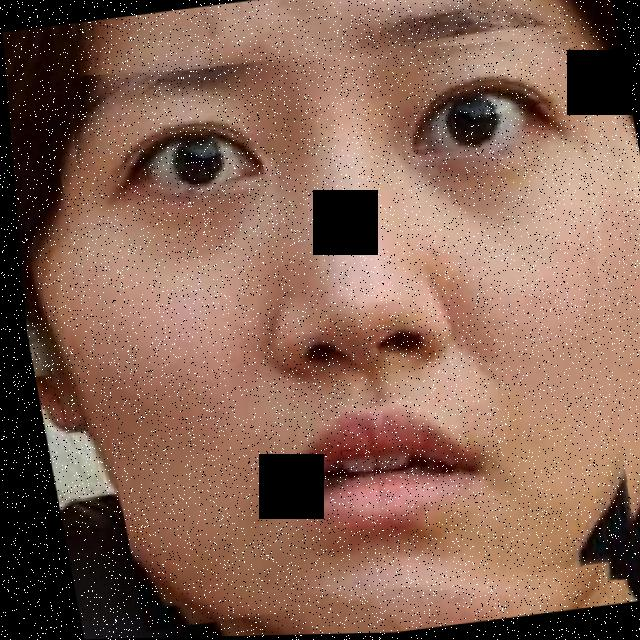fear: (39, 23, 640, 634)
